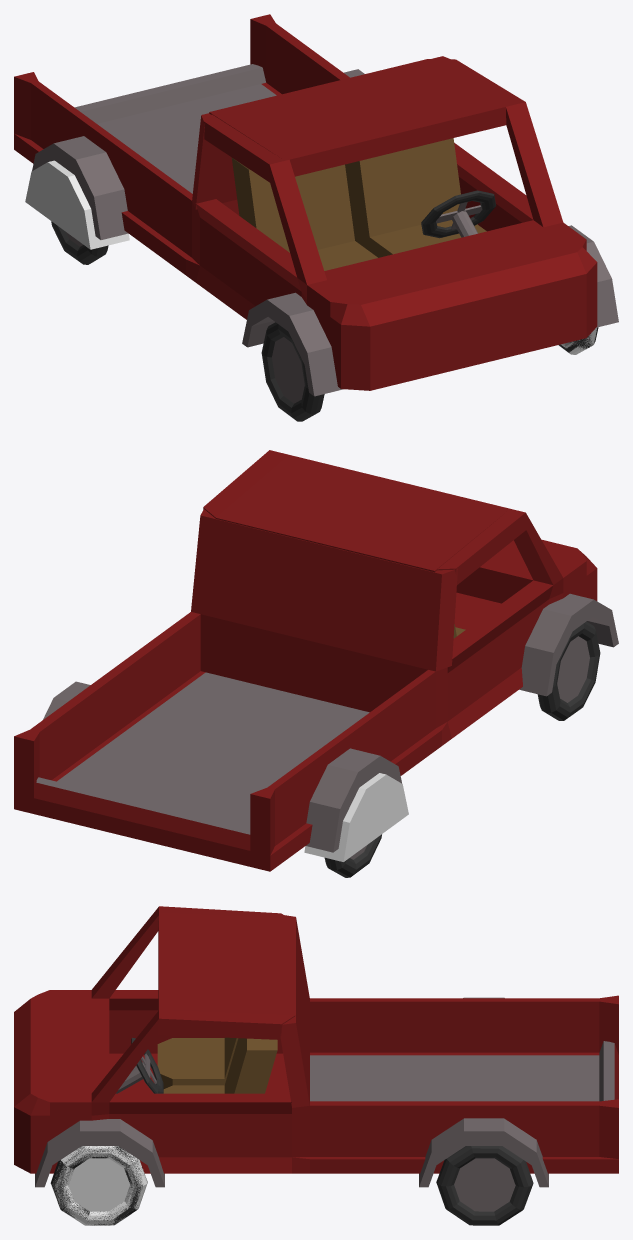
File: Car.fbx
3 views of the same model, one above another, from view 1: azimuth 30°, elevation 25°; view 2: azimuth 150°, elevation 25°; view 3: azimuth 270°, elevation 25° (orthographic). The views are drawn at different scales.
Visible parts, largest first — view 1: Cube, Cylinder, Cube.001, Cube.002, Cylinder.001, Torus.003, Cylinder.005, Torus, Torus.005; view 2: Cube, Cylinder, Cylinder.001, Torus.003, Cylinder.005, Torus.005; view 3: Cube, Cylinder, Torus.004, Cube.002, Torus.001, Cube.001, Cylinder.003, Cylinder.006, Torus.002, Torus.
Boxes of the visible parts, x1,y1,x2,y2 form: Cube: [14, 14, 597, 390]; Cylinder: [32, 69, 618, 396]; Cube.001: [345, 138, 486, 257]; Cube.002: [231, 157, 377, 270]; Cylinder.001: [25, 160, 129, 249]; Torus.003: [261, 322, 324, 421]; Cylinder.005: [272, 337, 304, 403]; Torus: [421, 190, 495, 238]; Torus.005: [51, 221, 108, 264]; Cube: [14, 450, 597, 871]; Cylinder: [43, 593, 618, 852]; Cylinder.001: [304, 773, 408, 861]; Torus.003: [537, 621, 600, 720]; Cylinder.005: [557, 636, 589, 702]; Torus.005: [324, 834, 381, 877]; Cube: [14, 906, 618, 1173]; Cylinder: [35, 997, 548, 1187]; Torus.004: [436, 1146, 533, 1225]; Cube.002: [157, 1037, 238, 1088]; Torus.001: [51, 1146, 147, 1225]; Cube.001: [163, 1038, 277, 1093]; Cylinder.003: [68, 1158, 129, 1211]; Cylinder.006: [454, 1158, 515, 1211]; Torus.002: [50, 1146, 147, 1225]; Torus: [131, 1037, 163, 1093].
Size of the model in its own units: 498 by 343 by 931.
